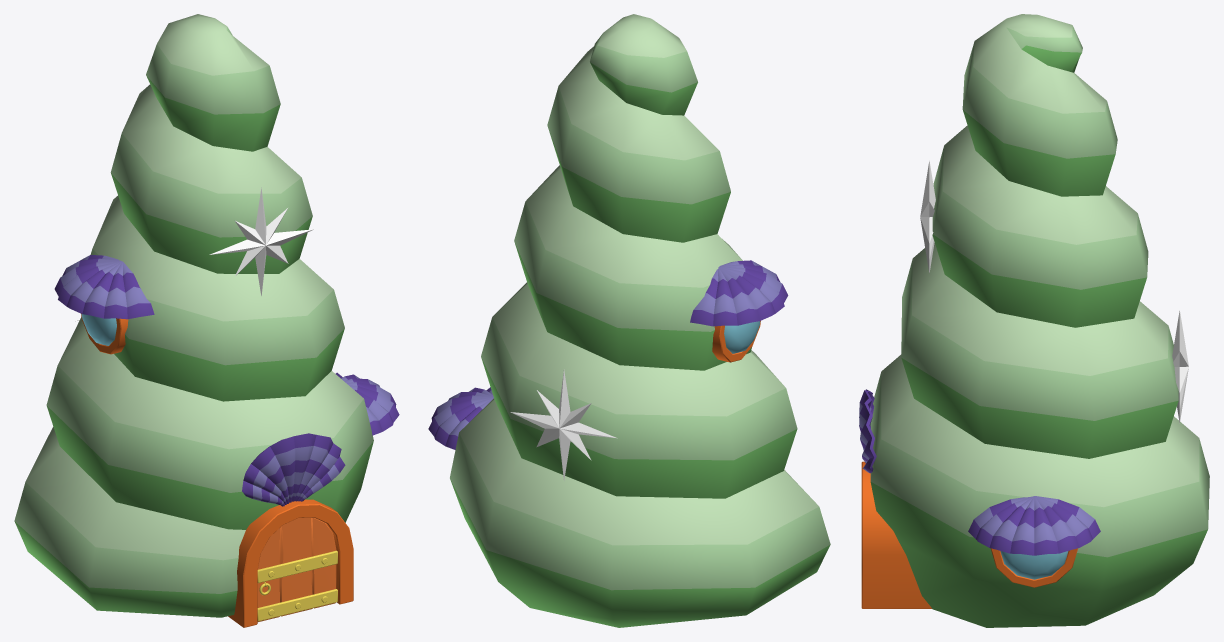
File: House_8.fbx
3 renders of one model, left to right at view 1: azimuth 30°, elevation 25°; view 2: azimuth 150°, elevation 25°; view 3: azimuth 270°, elevation 25°, orthographic. The views are drawn at different scales.
Parts seen in each view (by area): view 1: House_8; view 2: House_8; view 3: House_8.
Boxes of the visible parts, bbox=[...] form: House_8: bbox=[14, 14, 399, 627]; House_8: bbox=[428, 14, 830, 627]; House_8: bbox=[859, 14, 1209, 627].
Size of the model in its own units: 2.2 by 3.29 by 1.88.
